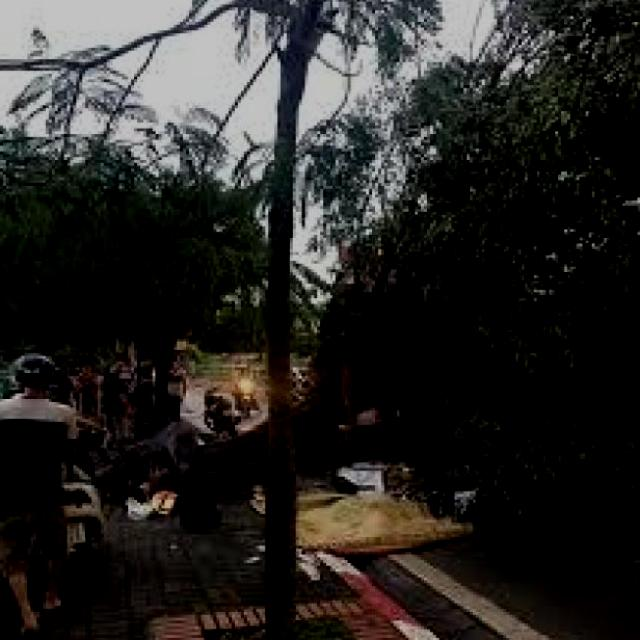fallen_object: (55, 272, 640, 506)
